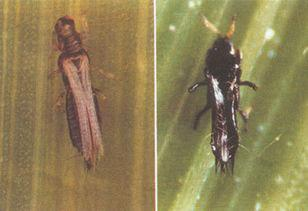pest: (55, 16, 104, 173), (203, 26, 240, 175)
